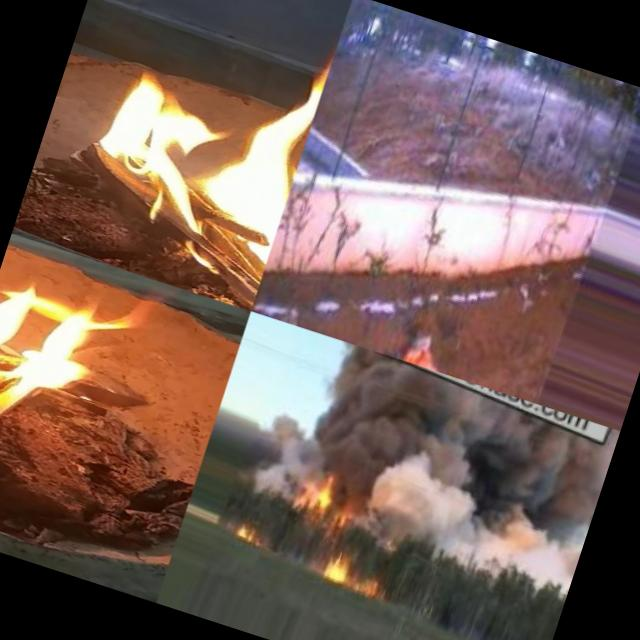fire: (51, 0, 344, 304), (0, 233, 158, 427), (304, 541, 386, 600), (291, 464, 341, 522), (401, 316, 452, 370), (223, 514, 270, 552)
smoke: (348, 412, 604, 600)
